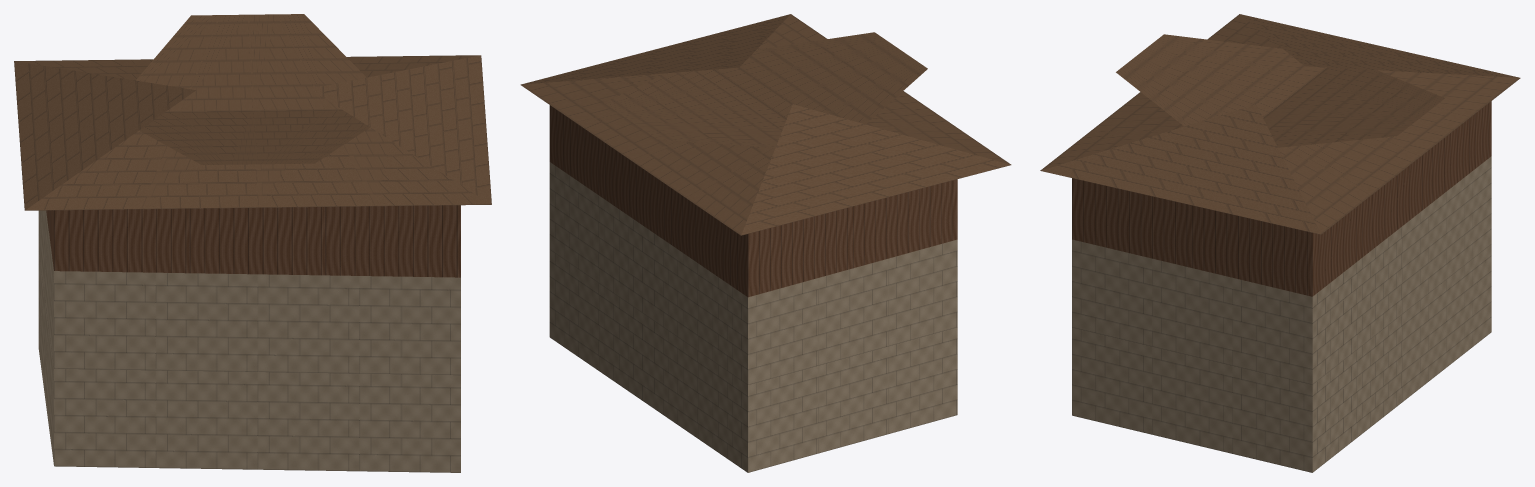
File: bld_c37_-44_371.gltf
3 renders of one model, left to right at view 1: azimuth 30°, elevation 25°; view 2: azimuth 150°, elevation 25°; view 3: azimuth 270°, elevation 25°, orthographic. The views are drawn at different scales.
Visible parts, largest first — view 1: bld_c37_-44_371; view 2: bld_c37_-44_371; view 3: bld_c37_-44_371.
Part boxes in pixels (<box>): bld_c37_-44_371: <box>14,14,491,472</box>; bld_c37_-44_371: <box>520,14,1011,472</box>; bld_c37_-44_371: <box>1040,14,1520,472</box>.
Bounding box in the file's own units: 12.1 × 7.4 × 11.13.
3 materials, 3 textured.
